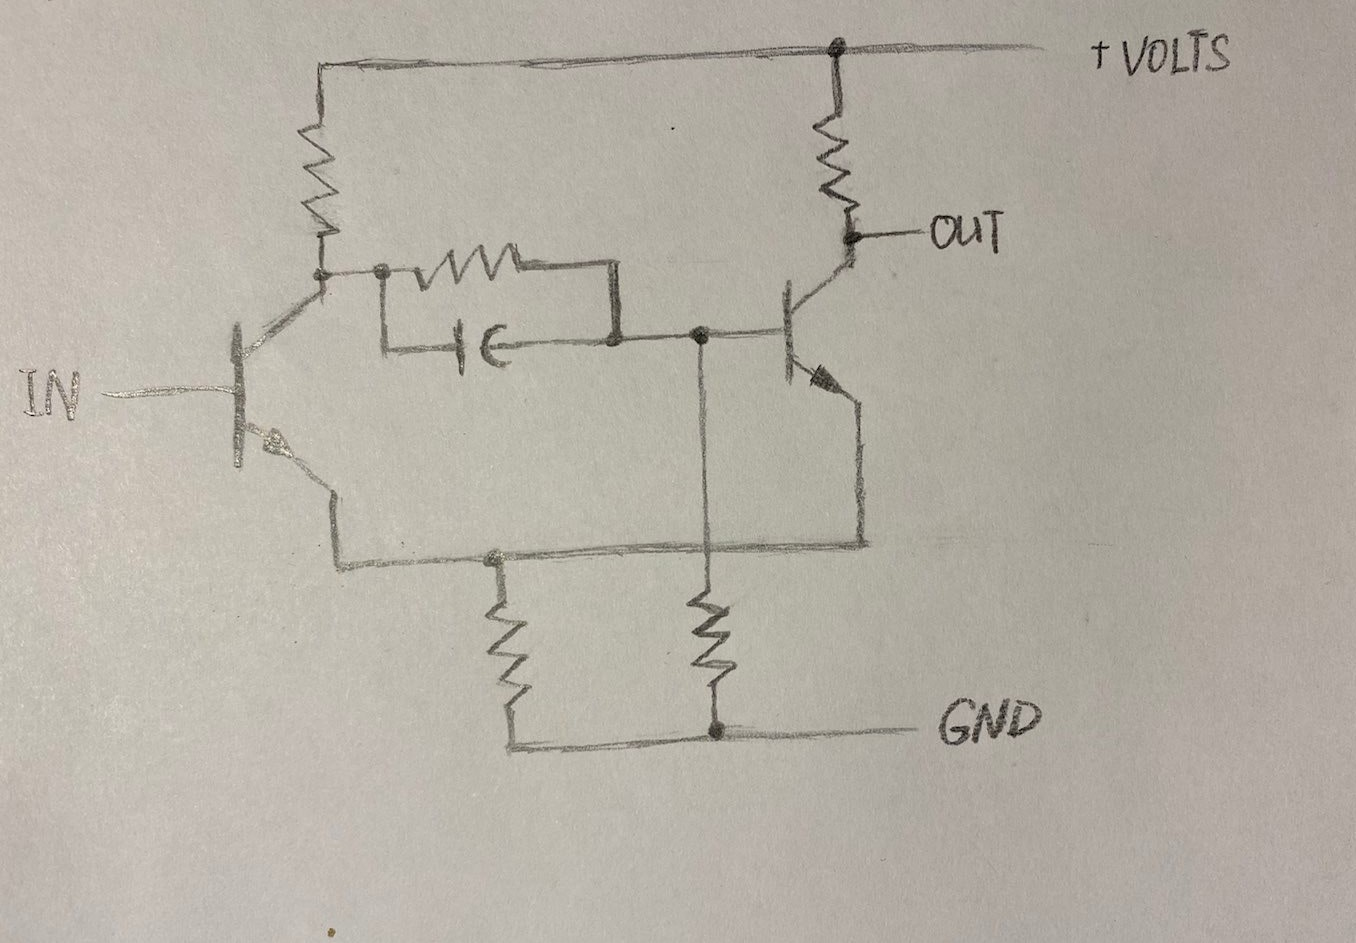capacitor.unpolarized: (430, 312, 541, 384)
crossover: (686, 526, 731, 567)
junction: (470, 535, 523, 583), (316, 546, 366, 593), (836, 524, 887, 567), (810, 26, 855, 70), (488, 727, 539, 765), (678, 315, 720, 361), (696, 713, 740, 754), (590, 318, 636, 359), (830, 221, 873, 255), (304, 46, 337, 85), (366, 335, 407, 364), (364, 251, 396, 288), (591, 249, 628, 279), (307, 258, 338, 287)
resistor: (290, 113, 355, 246), (478, 596, 536, 714), (404, 241, 536, 293), (808, 106, 871, 213), (685, 582, 744, 691)
terminal: (89, 370, 191, 413), (959, 30, 1061, 67), (851, 713, 936, 747), (877, 218, 929, 242)
text: (936, 691, 1047, 753), (1120, 27, 1233, 80), (16, 359, 84, 430), (930, 206, 1014, 255), (1086, 38, 1112, 73)
transistor: (209, 288, 347, 510), (776, 259, 880, 413)
